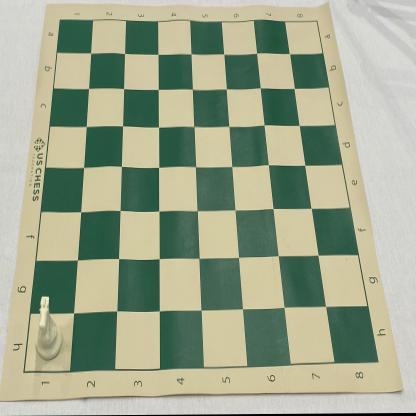white-knight: (35, 296, 64, 362)
